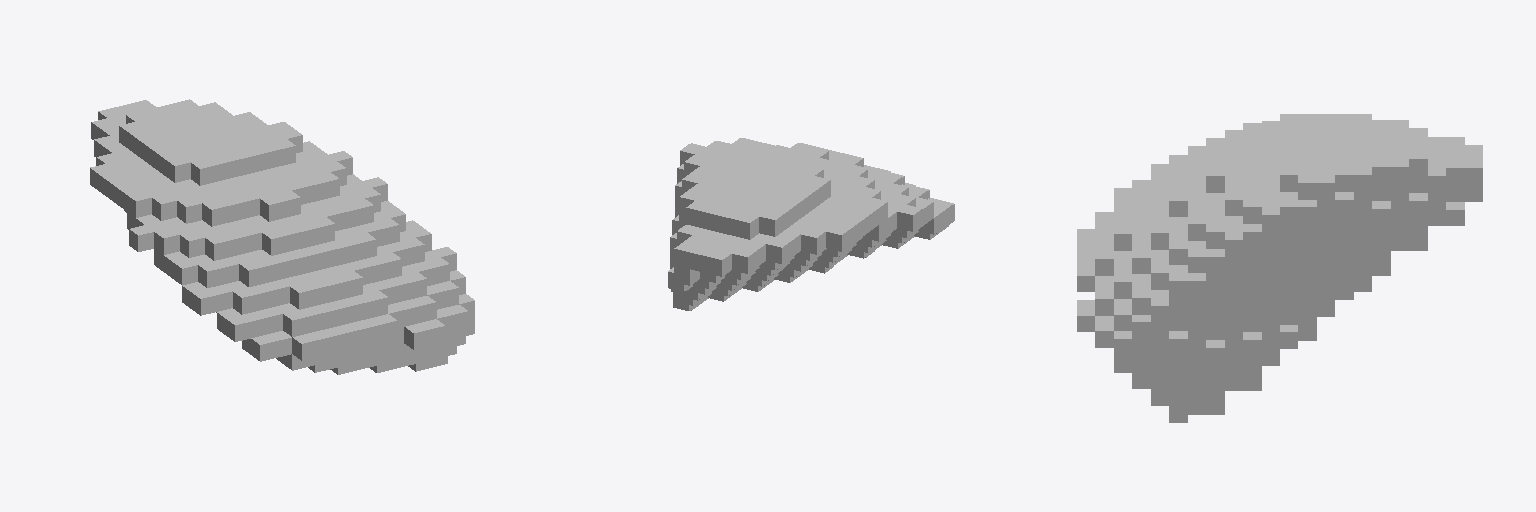
File: огненый осколок 7.obj
3 renders of one model, left to right at view 1: azimuth 30°, elevation 25°; view 2: azimuth 150°, elevation 25°; view 3: azimuth 270°, elevation 25°, orthographic.
Visible parts, largest first — view 1: object 1; view 2: object 1; view 3: object 1.
Part boxes in pixels (bbox=[...]): object 1: bbox=[90, 99, 474, 374]; object 1: bbox=[668, 138, 954, 310]; object 1: bbox=[1077, 114, 1482, 422].
Size of the model in its own units: 1.7 by 1.2 by 2.2.